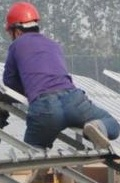boots: (82, 117, 110, 150)
hard-hat: (4, 0, 40, 29)
